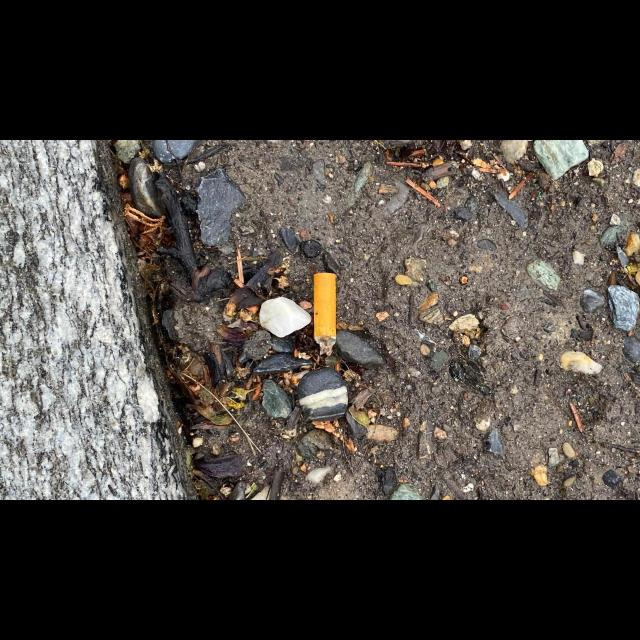cigarette: (312, 272, 337, 357)
